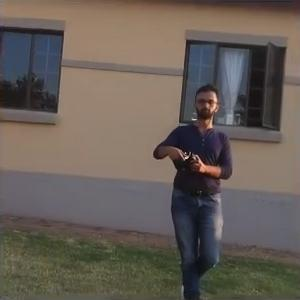follow: (150, 74, 239, 298)
